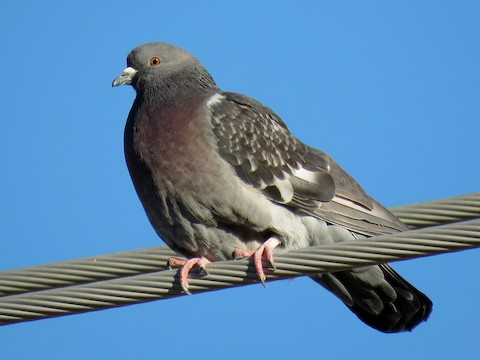pigeon: (106, 38, 437, 336)
